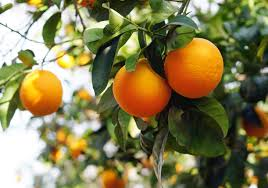orange: (109, 57, 172, 121), (167, 33, 227, 98), (19, 68, 64, 121)
